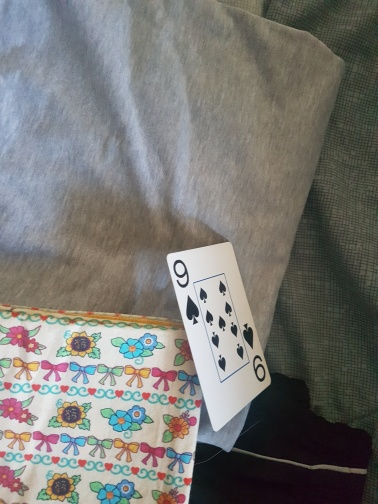nine: (167, 241, 271, 433)
